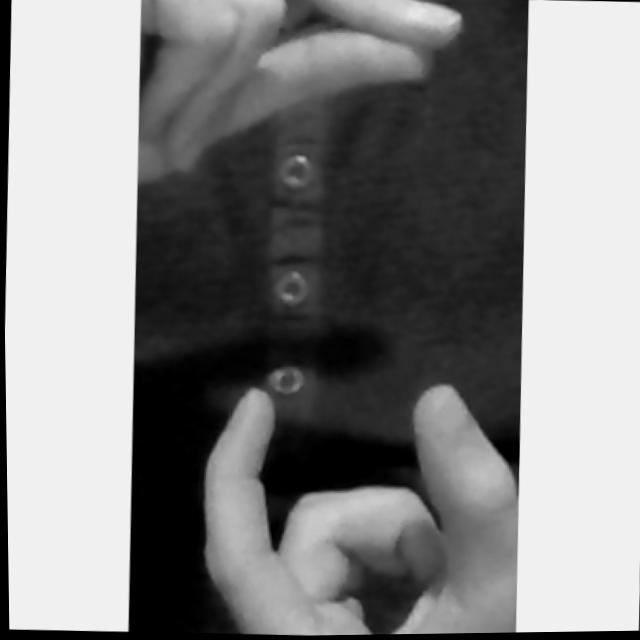U--: (120, 0, 534, 638)
